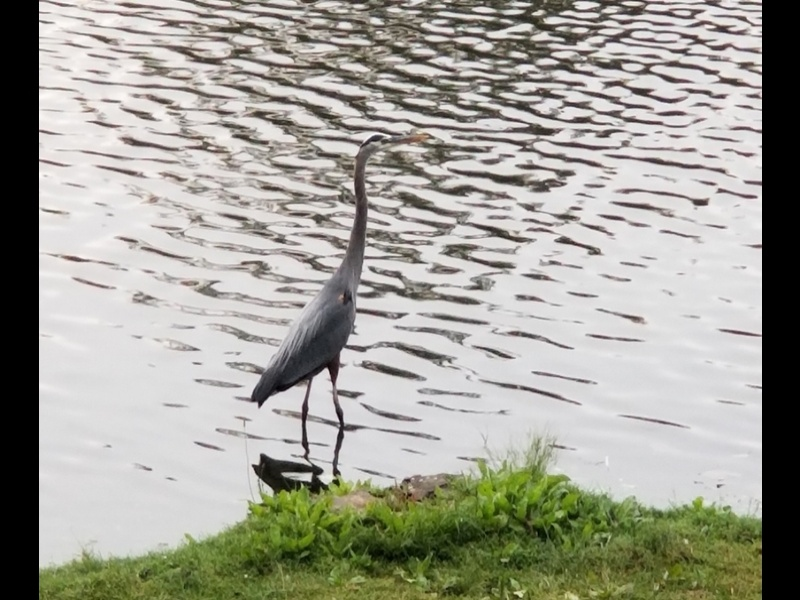heron: (248, 128, 430, 441)
